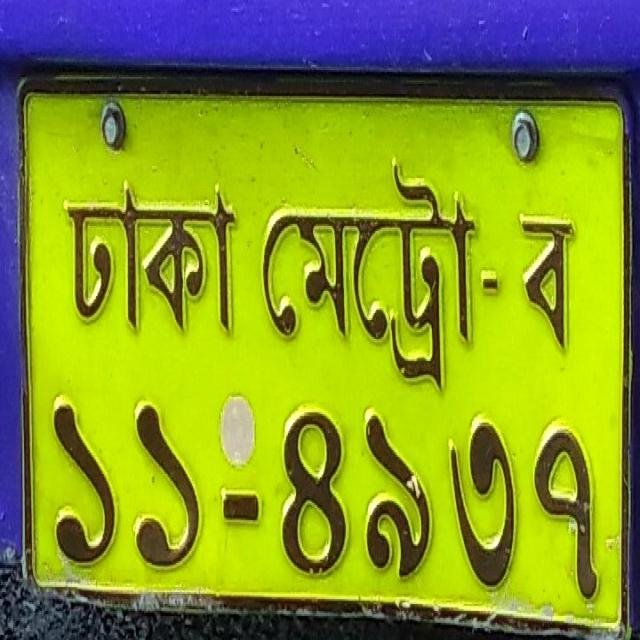numberplate: (16, 68, 631, 638)
